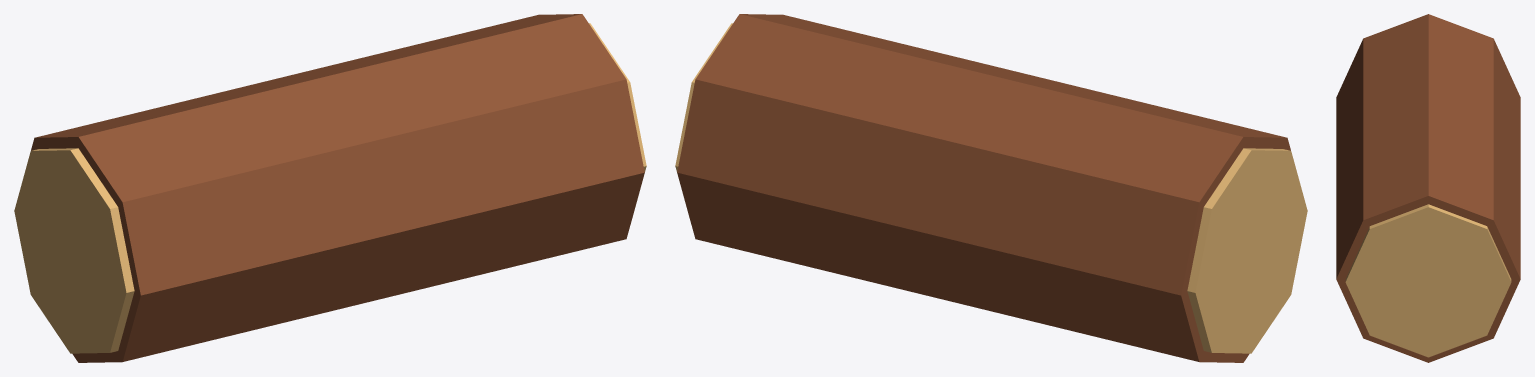
File: timber.glb
The picture shows the model from 3 angles, left to right: view 1: azimuth 30°, elevation 25°; view 2: azimuth 150°, elevation 25°; view 3: azimuth 270°, elevation 25°; orthographic projection. The views are drawn at different scales.
Visible parts, largest first — view 1: Log, Cut face; view 2: Log, Cut face; view 3: Log, Cut face.001.
Boxes of the visible parts, box(x1,y1,x2,y2) form: Log: box(31, 14, 644, 362); Cut face: box(14, 148, 134, 353); Log: box(677, 14, 1290, 362); Cut face: box(1187, 148, 1307, 353); Log: box(1336, 14, 1520, 362); Cut face.001: box(1345, 204, 1511, 357).
Size of the model in its own units: 0.578 by 0.24 by 0.24.
